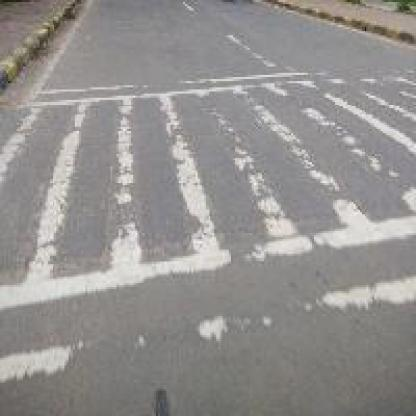Speed Bump: (2, 62, 412, 387)
